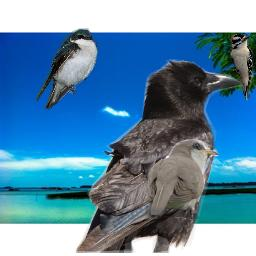Crow: (75, 59, 244, 253)
Cuckoo: (145, 139, 219, 220)
Swallow: (36, 26, 100, 110)
Woodpecker: (229, 34, 253, 101)
